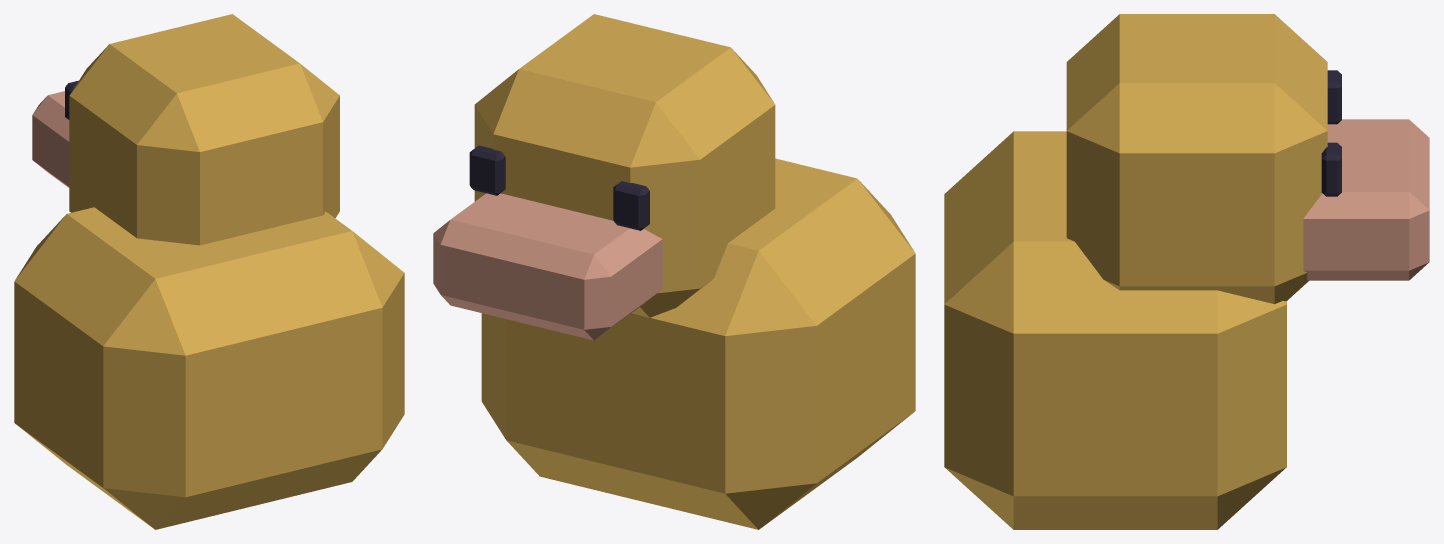
Rendered from duck.glb.
3 views of the same model, side by side, from view 1: azimuth 30°, elevation 25°; view 2: azimuth 150°, elevation 25°; view 3: azimuth 270°, elevation 25° (orthographic). The views are drawn at different scales.
Parts seen in each view (by area): view 1: Toy; view 2: Toy; view 3: Toy.
Boxes of the visible parts, left/top/right/bottom form: Toy: left=14, top=14, right=404, bottom=529; Toy: left=433, top=14, right=915, bottom=529; Toy: left=944, top=14, right=1429, bottom=529.
Bounding box in the file's own units: 0.49 × 0.6 × 0.595.
